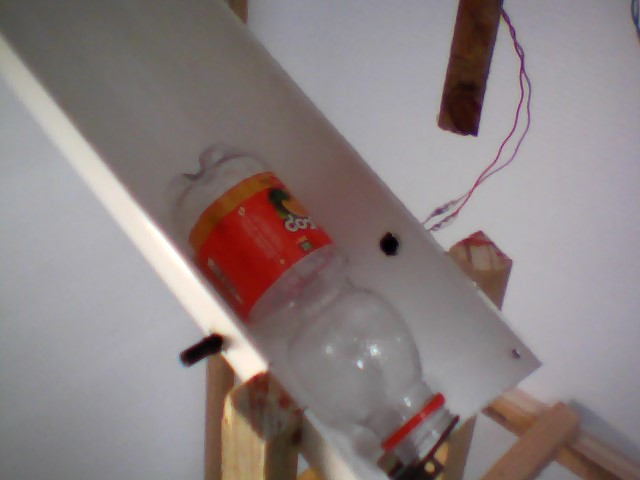plastico: (161, 136, 465, 462)
